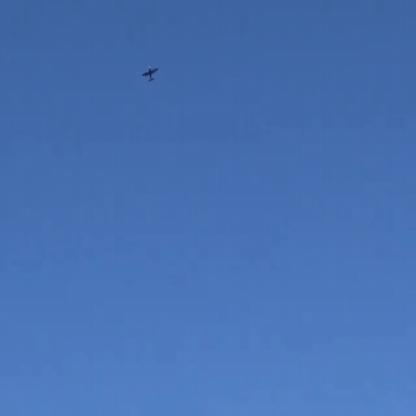CIV_Plane: (140, 66, 158, 80)
